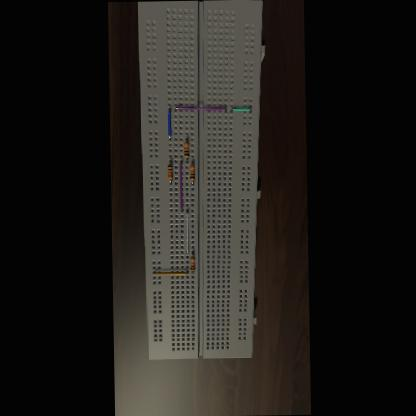breadboard: (136, 0, 269, 359)
resistor: (183, 142, 187, 158), (188, 165, 192, 180), (189, 256, 193, 271), (166, 164, 170, 179)
wire: (174, 106, 225, 113), (178, 160, 182, 210), (152, 270, 186, 274), (184, 209, 187, 252), (166, 108, 170, 139), (230, 108, 250, 112), (190, 251, 192, 256), (184, 158, 186, 162), (168, 160, 170, 163), (191, 180, 192, 184), (190, 270, 192, 272), (184, 138, 186, 140), (169, 180, 170, 184), (190, 161, 190, 164)
